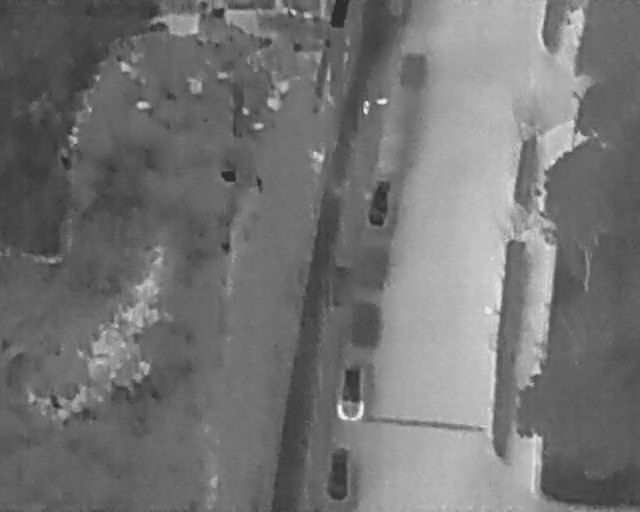Car: (335, 363, 368, 423), (366, 177, 393, 228), (326, 447, 351, 500)
Person: (363, 99, 371, 114)
